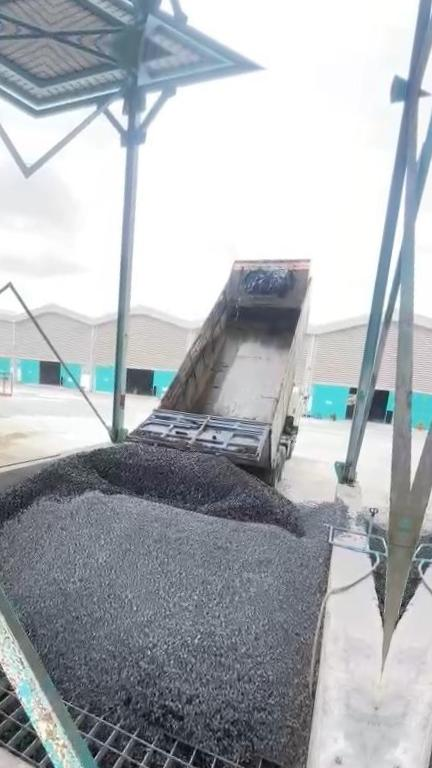gravel: (0, 443, 351, 759), (368, 524, 387, 621)
sand: (0, 426, 28, 469)
